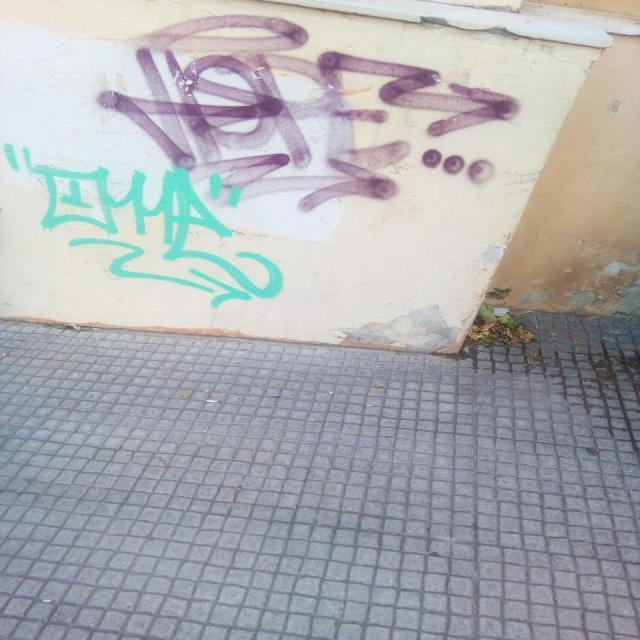nonspitting: (96, 13, 521, 211), (2, 143, 284, 306)
